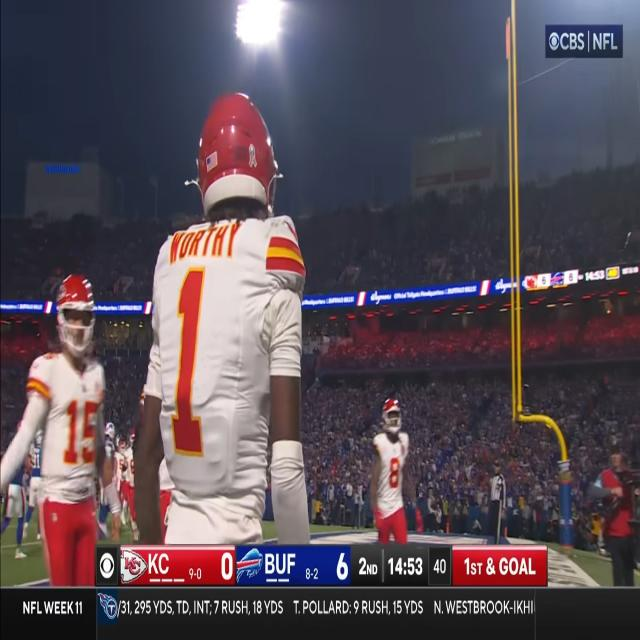Player: (148, 91, 302, 542), (26, 274, 98, 578), (371, 402, 414, 540)
Referee: (490, 457, 508, 542)
